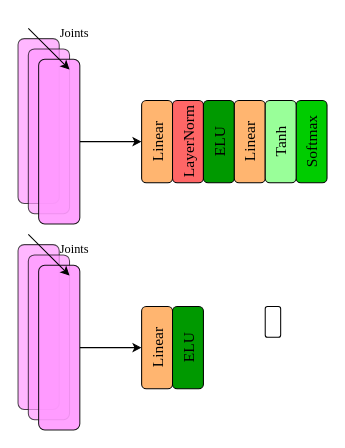
This 345x448 diagram has some shape labels left out. Each missing label, with the centre of its shape:
Joint Description: the point at 59,141
Joint Observation: the point at 59,347
